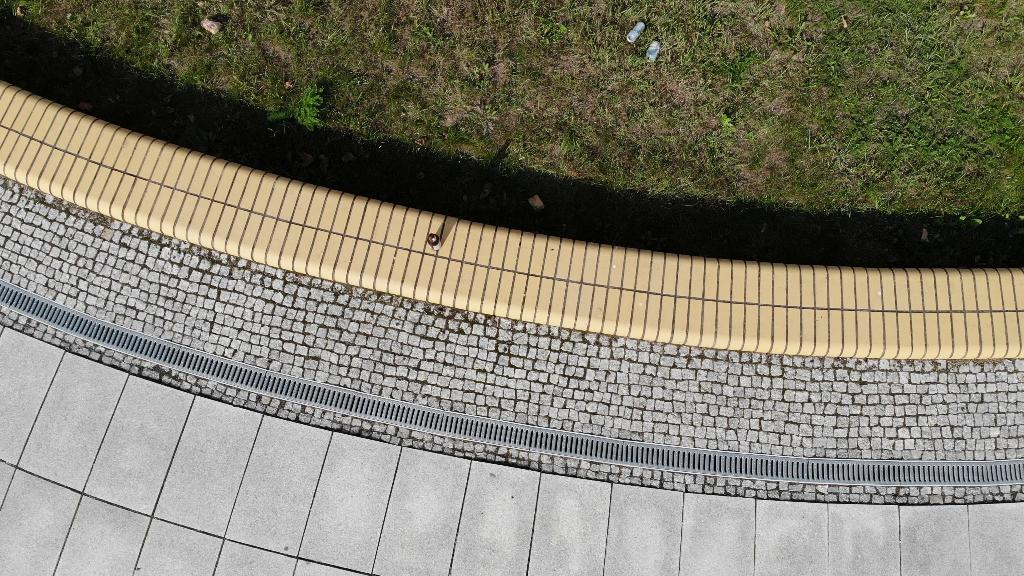garbage: (626, 21, 646, 43), (646, 40, 661, 62)
